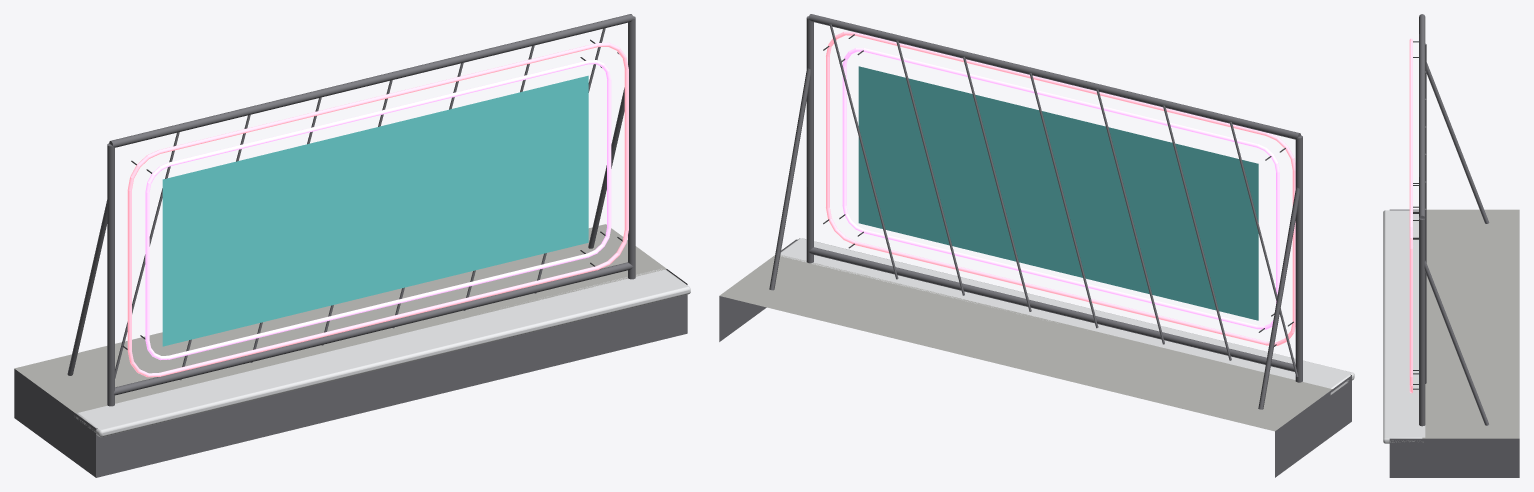
File: retro_cap_neon_5.glb
3 views of the same model, side by side, from view 1: azimuth 30°, elevation 25°; view 2: azimuth 150°, elevation 25°; view 3: azimuth 270°, elevation 25° (orthographic). The views are drawn at different scales.
Visible parts, largest first — view 1: retro_cap_neon_5; view 2: retro_cap_neon_5; view 3: retro_cap_neon_5.
Boxes of the visible parts, x1=… form: retro_cap_neon_5: x1=14, y1=14, x2=690, y2=477; retro_cap_neon_5: x1=719, y1=14, x2=1354, y2=477; retro_cap_neon_5: x1=1383, y1=14, x2=1519, y2=477.
Bounding box in the file's own units: 5 × 2.53 × 1.26.
